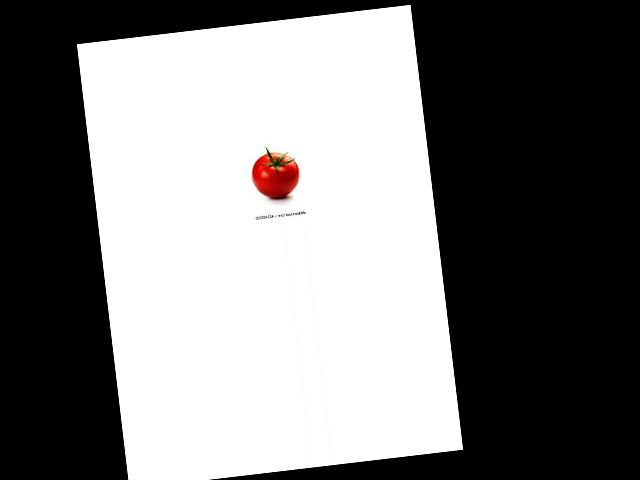tomato: (249, 150, 301, 200)
